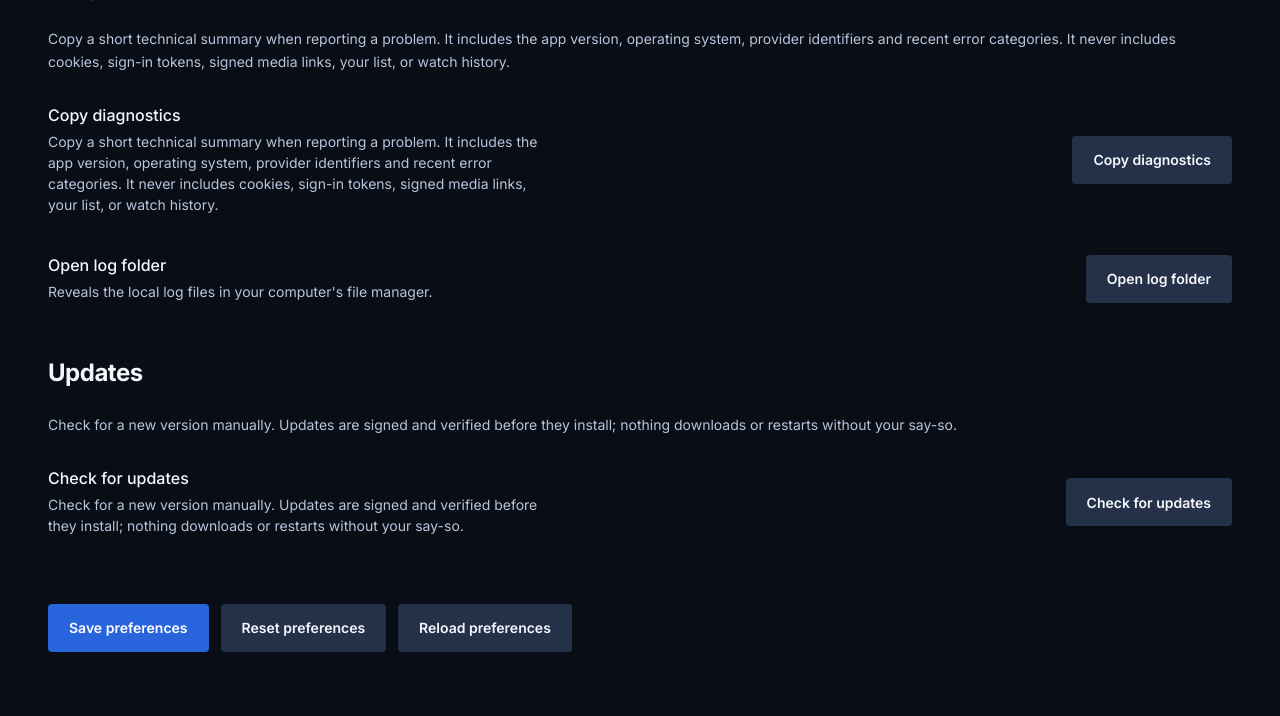
Test: Preferences update checks › reports up to date after a manual check
(page scrolled)
Click the button "Check for updates": x=1149, y=502 left=1066, top=478, right=1232, bottom=526
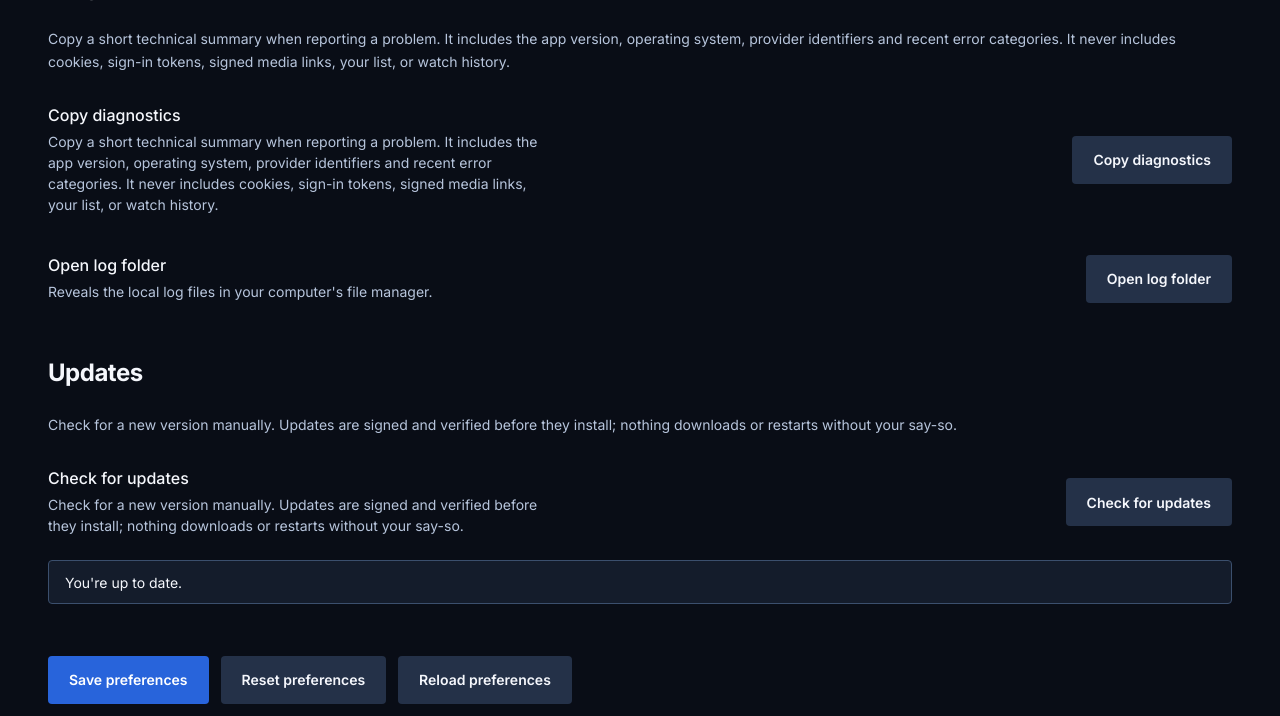
Result: the text "You're up to date." is shown at left=65, top=574, right=182, bottom=591
